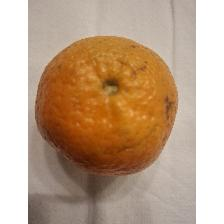Mandarine: (33, 32, 182, 176)
